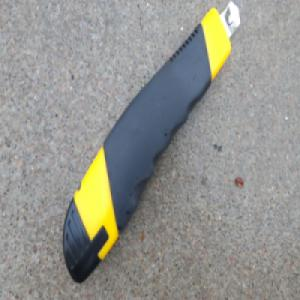Cutter: (62, 2, 241, 284)
